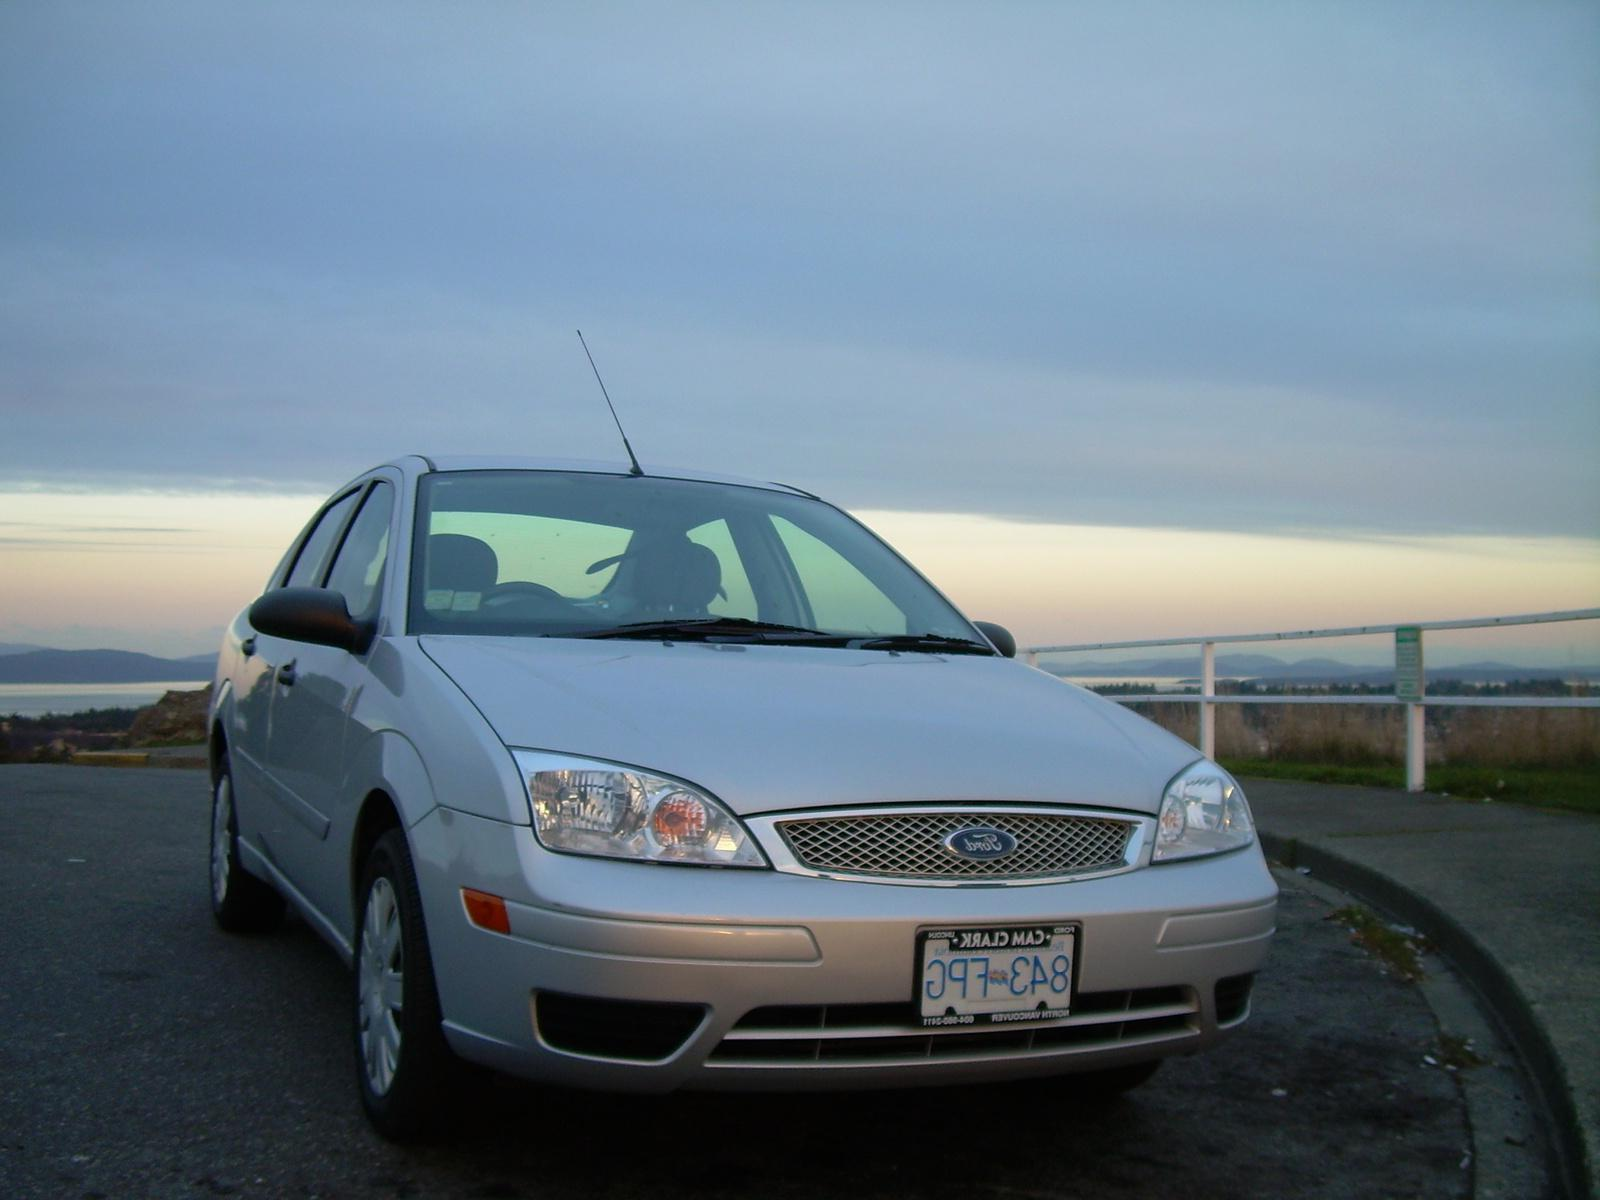Car: (121, 371, 1356, 1158)
